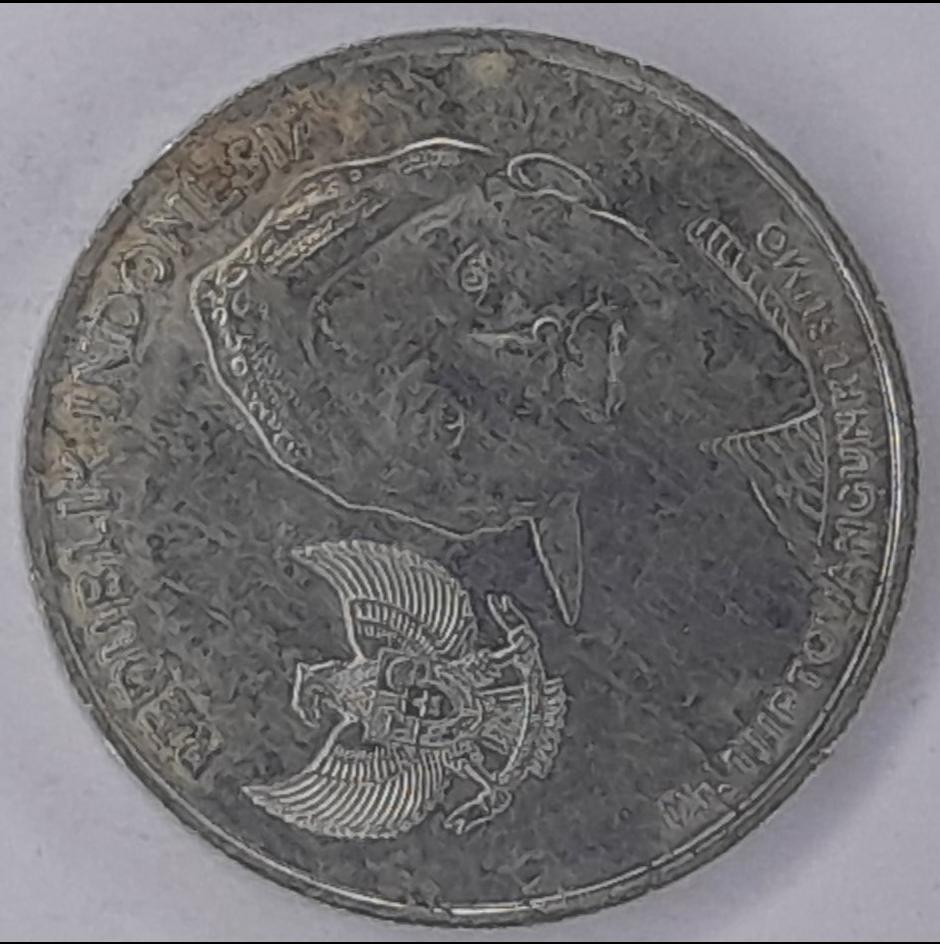coin_200_e2016: (0, 16, 940, 944)
